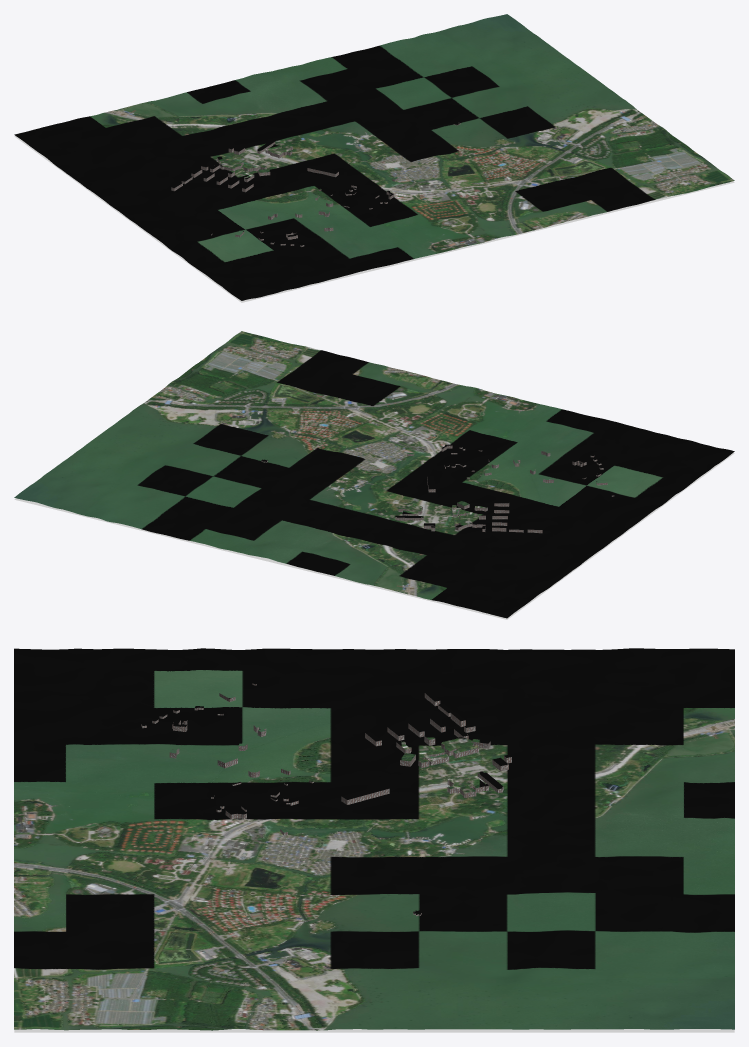
The model's file is guncun.dae.
3 views of the same model, one above another, from view 1: azimuth 30°, elevation 25°; view 2: azimuth 150°, elevation 25°; view 3: azimuth 270°, elevation 25° (orthographic). The views are drawn at different scales.
Parts seen in each view (by area): view 1: Terrain, Terrain_envelope, map_33.osm_buildings, map_33.osm_buildings.001; view 2: Terrain, Terrain_envelope, map_33.osm_buildings, map_33.osm_buildings.001; view 3: Terrain, map_33.osm_buildings, map_33.osm_buildings.001, Terrain_envelope.
Boxes of the visible parts, x1=… form: Terrain: x1=14, y1=14, x2=734, y2=300; Terrain_envelope: x1=14, y1=136, x2=734, y2=302; map_33.osm_buildings: x1=171, y1=123, x2=460, y2=246; map_33.osm_buildings.001: x1=172, y1=122, x2=459, y2=245; Terrain: x1=14, y1=331, x2=734, y2=618; Terrain_envelope: x1=14, y1=453, x2=734, y2=619; map_33.osm_buildings: x1=261, y1=445, x2=614, y2=533; map_33.osm_buildings.001: x1=261, y1=444, x2=613, y2=529; Terrain: x1=14, y1=648, x2=734, y2=1030; map_33.osm_buildings: x1=141, y1=683, x2=511, y2=916; map_33.osm_buildings.001: x1=141, y1=682, x2=511, y2=914; Terrain_envelope: x1=14, y1=1029, x2=734, y2=1032.
Size of the model in its own units: 2668 by 2134 by 29.51.
